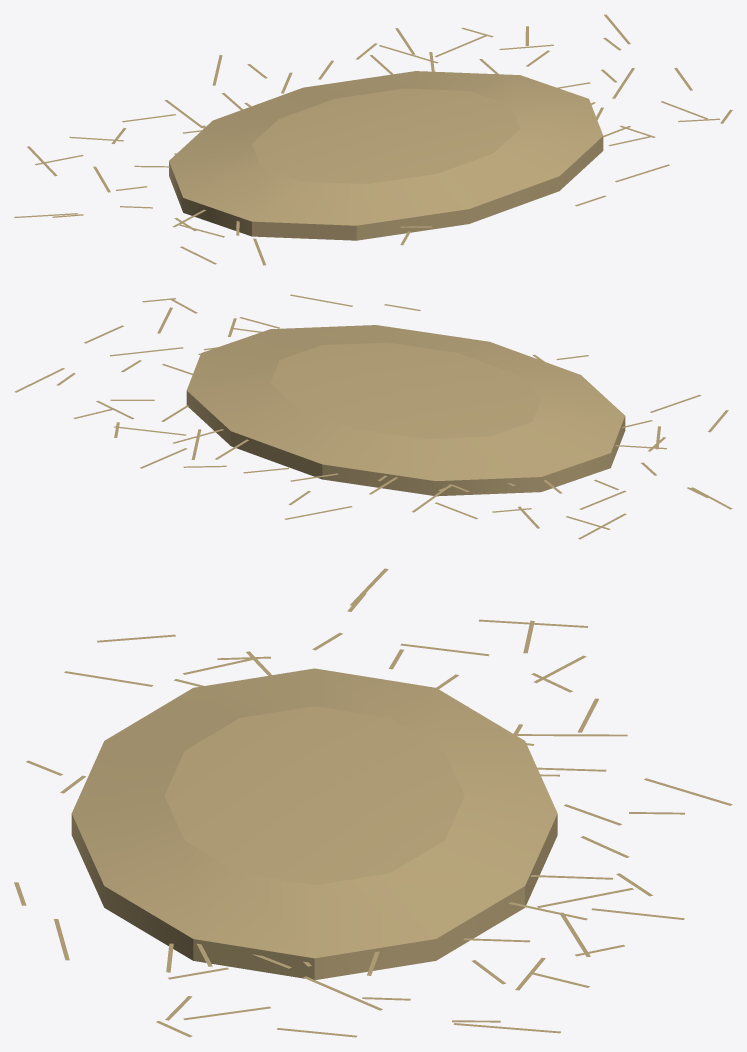
The model's file is clutter_hay.glb.
The picture shows the model from 3 angles, top to bottom: view 1: azimuth 30°, elevation 25°; view 2: azimuth 150°, elevation 25°; view 3: azimuth 270°, elevation 25°; orthographic projection. The views are drawn at different scales.
Visible parts, largest first — view 1: clutter_hay; view 2: clutter_hay; view 3: clutter_hay.
Boxes of the visible parts, left/top/right/bottom form: clutter_hay: left=14, top=14, right=732, bottom=265; clutter_hay: left=14, top=294, right=732, bottom=539; clutter_hay: left=14, top=568, right=732, bottom=1037.
Bounding box in the file's own units: 2.94 × 0.208 × 1.91.
